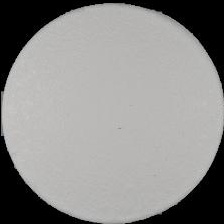52959-074: (0, 0, 224, 224)
